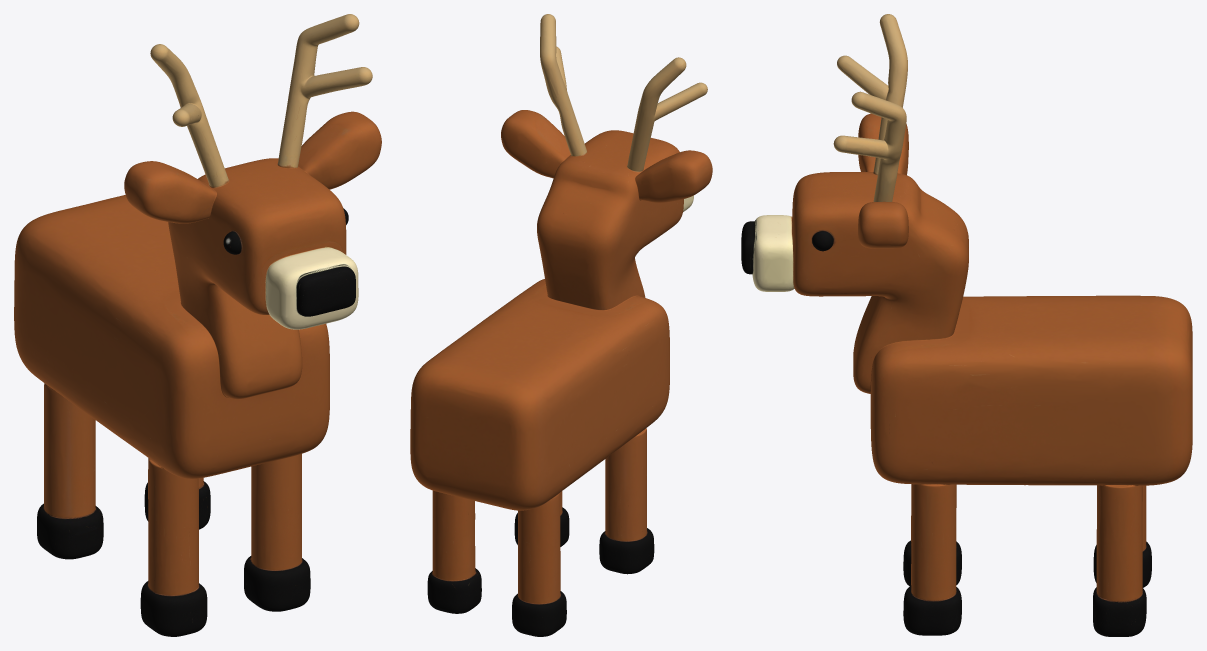
The model's file is Meshy_AI_smooth_cartoon_deer_3_1023215146_image-to-3d-texture.fbx.
The picture shows the model from 3 angles, left to right: view 1: azimuth 30°, elevation 25°; view 2: azimuth 150°, elevation 25°; view 3: azimuth 270°, elevation 25°; orthographic projection. The views are drawn at different scales.
Parts seen in each view (by area): view 1: Mesh_0; view 2: Mesh_0; view 3: Mesh_0.
Boxes of the visible parts, <box> form: Mesh_0: <box>14,14,381,636</box>; Mesh_0: <box>410,14,712,636</box>; Mesh_0: <box>741,14,1192,636</box>.
Size of the model in its own units: 78.92 by 190 by 141.
1 material, 1 textured.
